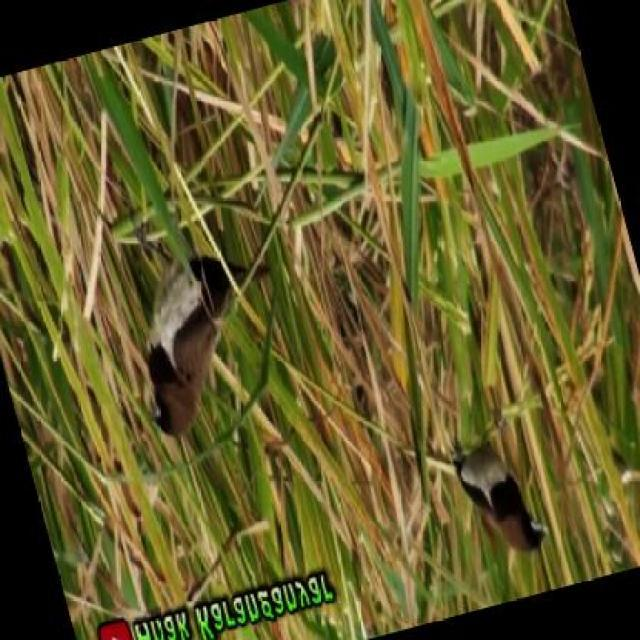Bird: (133, 239, 274, 451), (450, 439, 563, 557)
